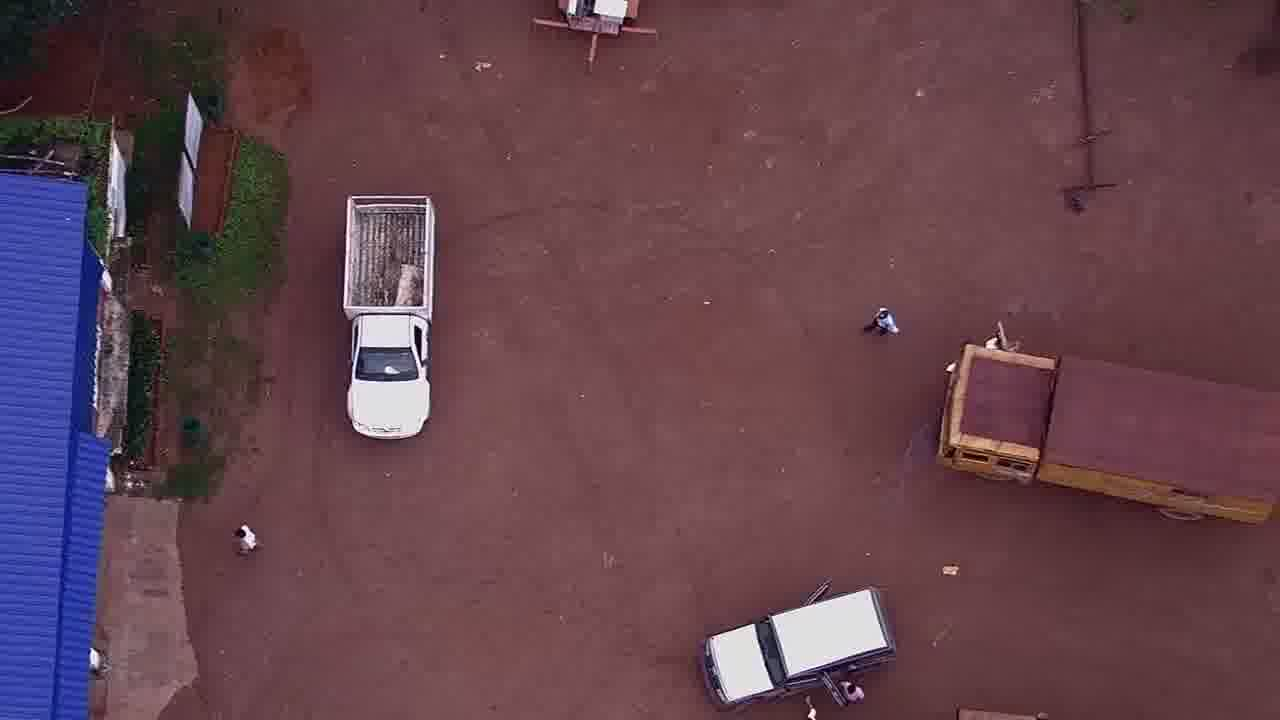HMV: (938, 318, 1280, 538)
LMV: (689, 563, 900, 710), (338, 183, 439, 454)
Person: (862, 303, 897, 346), (226, 520, 261, 562), (836, 675, 867, 703)
